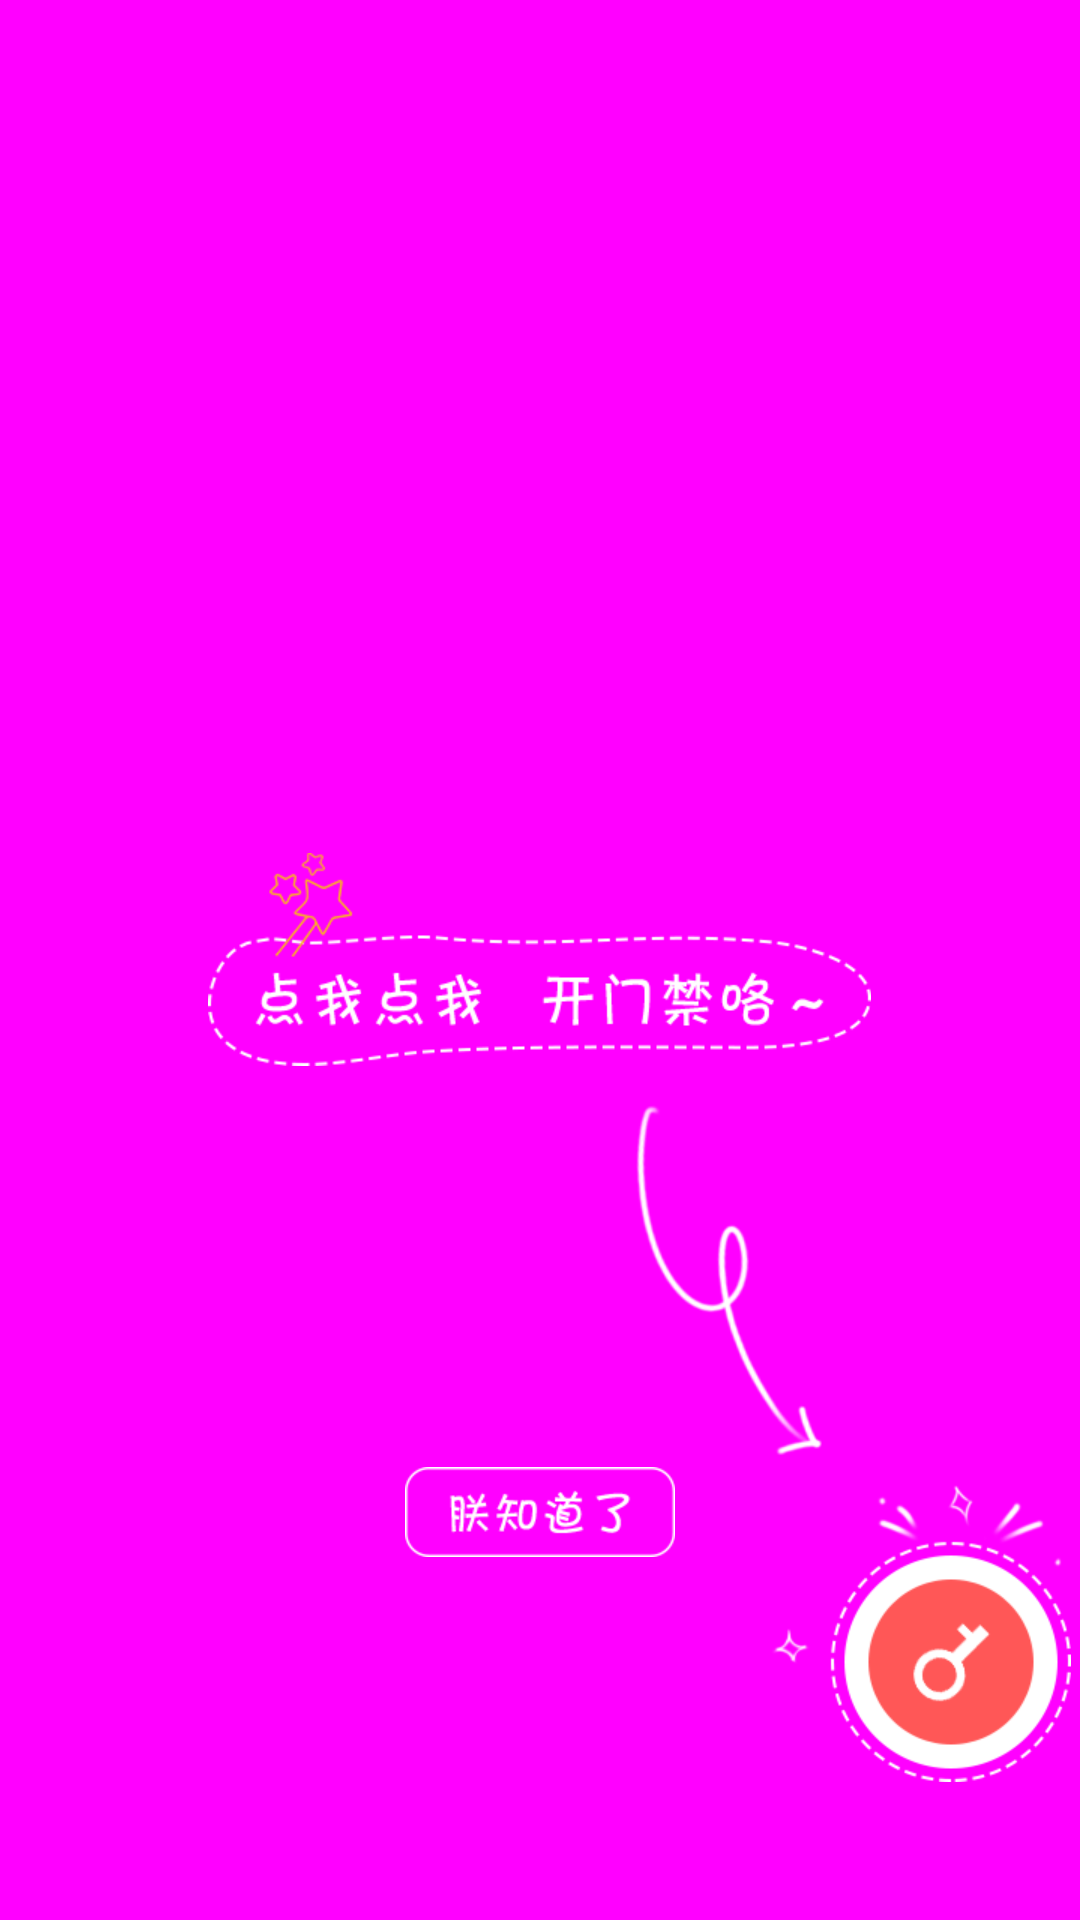

Point at icon controls on the screen. Image size 1080px x 1920px, points as (x,y).
shouyejieshao jiantou: (729,1280)
shouyejieshao kaimen: (922,1634)
